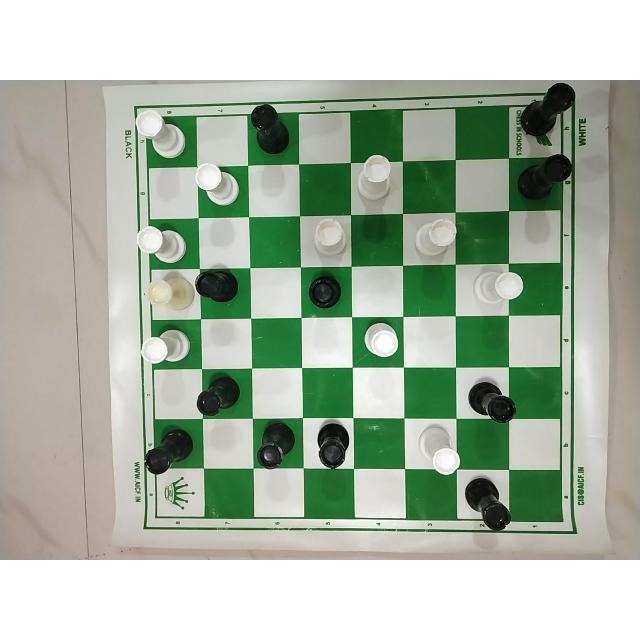black-rook: (519, 83, 579, 143), (517, 152, 574, 212), (458, 479, 514, 531), (143, 424, 193, 482), (466, 373, 518, 423), (245, 103, 291, 157), (314, 421, 354, 475), (193, 268, 243, 308), (255, 422, 295, 472), (195, 376, 243, 416), (305, 271, 347, 313)
white-rook: (132, 110, 192, 160), (132, 222, 190, 268), (191, 162, 242, 212), (414, 423, 464, 471), (471, 268, 527, 310), (353, 154, 397, 206), (139, 274, 195, 313), (137, 330, 195, 366), (413, 214, 459, 258), (307, 219, 349, 261), (360, 321, 402, 361)
